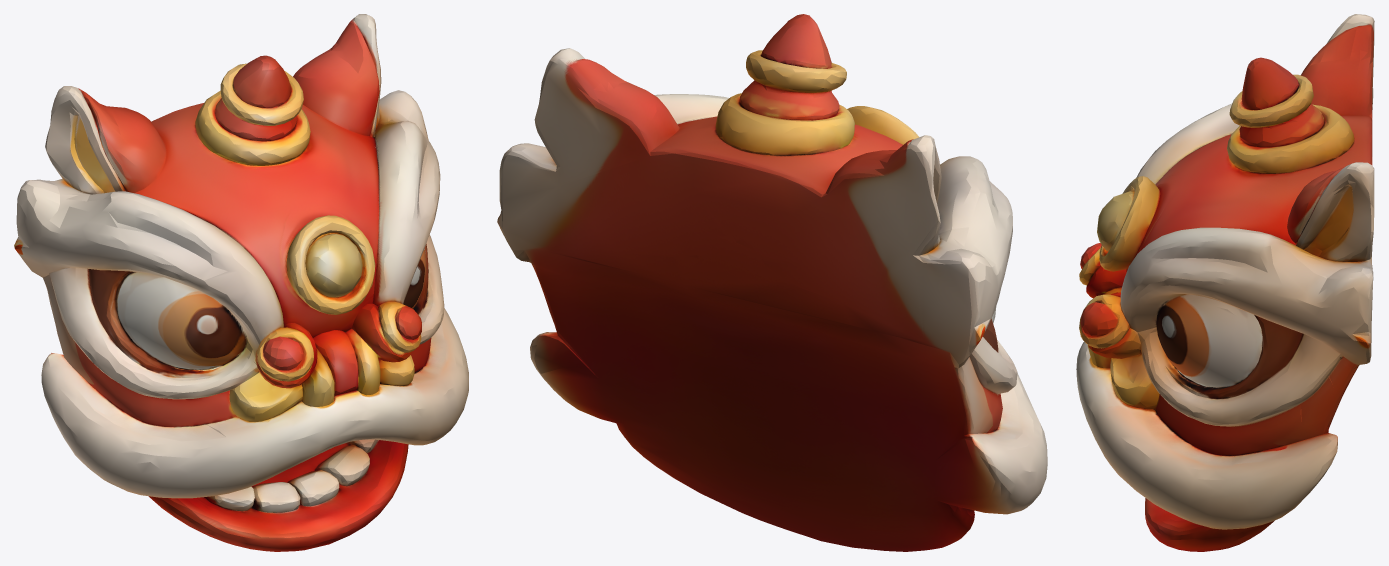
The model's file is XingshiMask.glb.
3 views of the same model, side by side, from view 1: azimuth 30°, elevation 25°; view 2: azimuth 150°, elevation 25°; view 3: azimuth 270°, elevation 25° (orthographic). The views are drawn at different scales.
Parts seen in each view (by area): view 1: model; view 2: model; view 3: model.
Boxes of the visible parts, left/top/right/bottom form: model: left=14, top=14, right=468, bottom=551; model: left=497, top=14, right=1047, bottom=551; model: left=1076, top=14, right=1374, bottom=551.
Size of the model in its own units: 1.68 by 1.84 by 1.06.
Materials: 1 (1 with a texture image).
